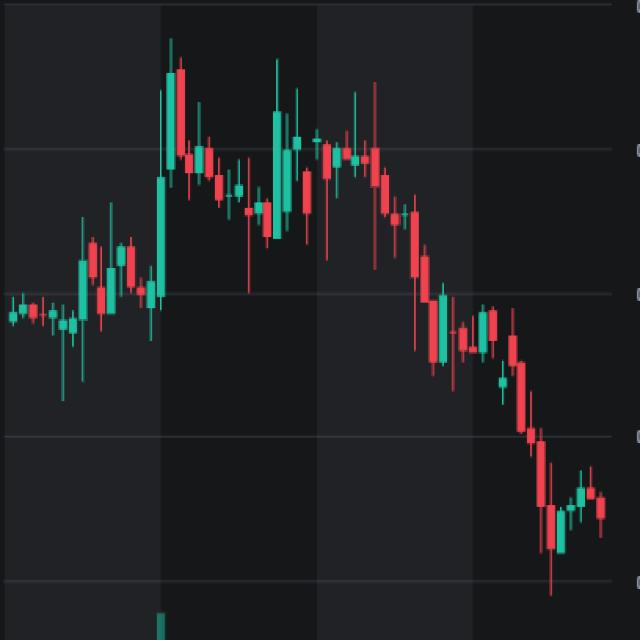Support-breakout: (268, 69, 556, 571)
